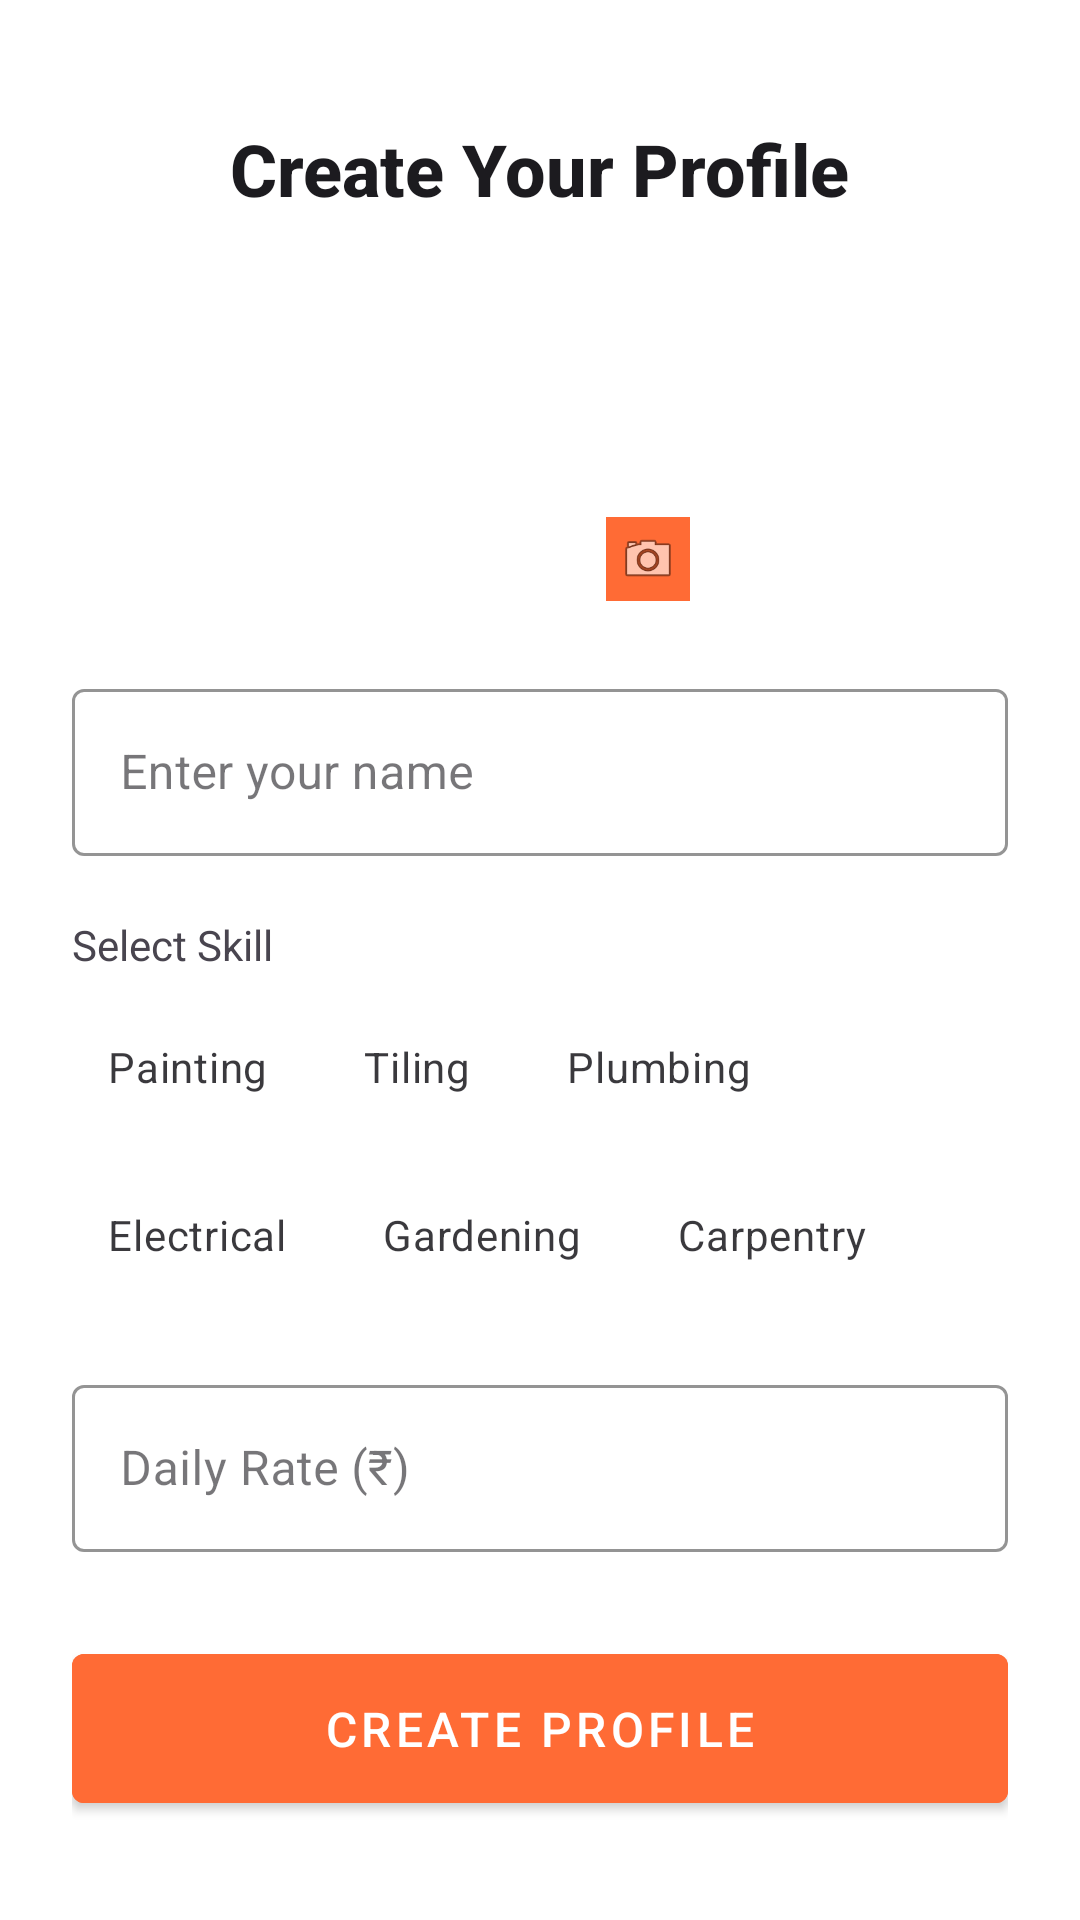

Locate icon controls on the screen. Image size 1080px x 1920px, boxes as (x1, y1, x2, y2).
Change photo: (606, 517, 690, 601)
